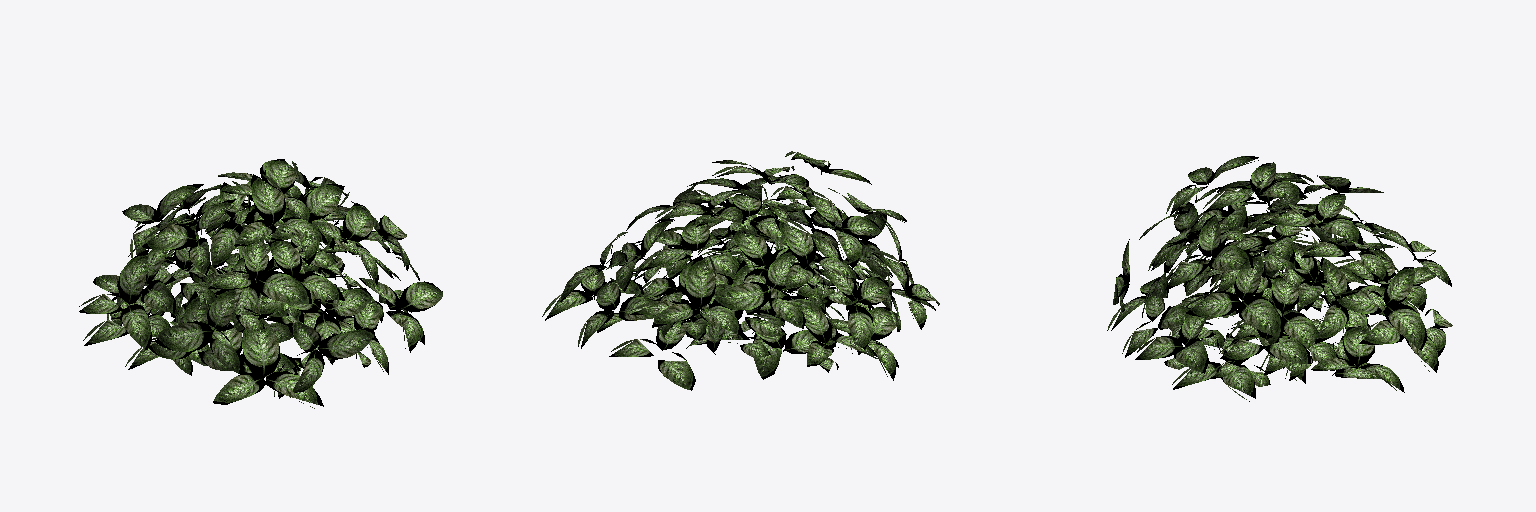
The picture shows the model from 3 angles: view 1: azimuth 30°, elevation 25°; view 2: azimuth 150°, elevation 25°; view 3: azimuth 270°, elevation 25°; orthographic projection.
Visible parts, largest first — view 1: object 1; view 2: object 1; view 3: object 1.
Part boxes in pixels (x1,y1,x2,y2): object 1: (79,159,442,408); object 1: (542,151,939,390); object 1: (1107,156,1452,401).
Size of the model in its own units: 2.5 by 1.33 by 2.26.
Materials: 1 (1 with a texture image).